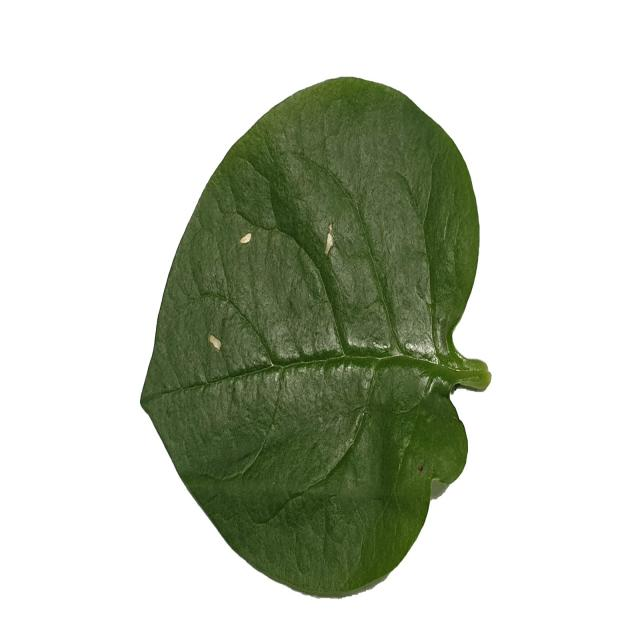Medicinal-Basale: (136, 70, 494, 596)
